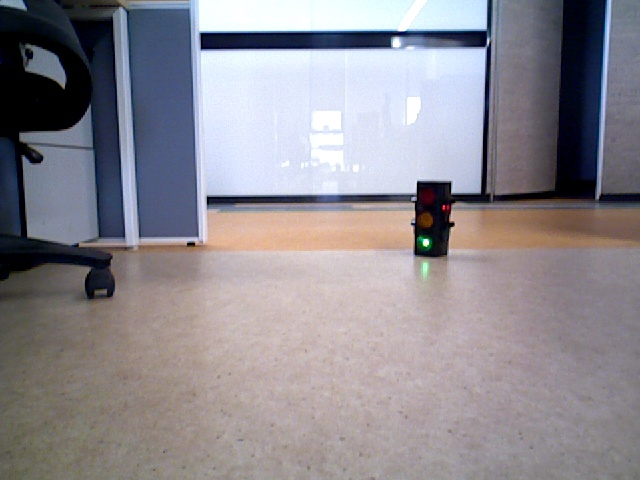green: (416, 181, 446, 253)
